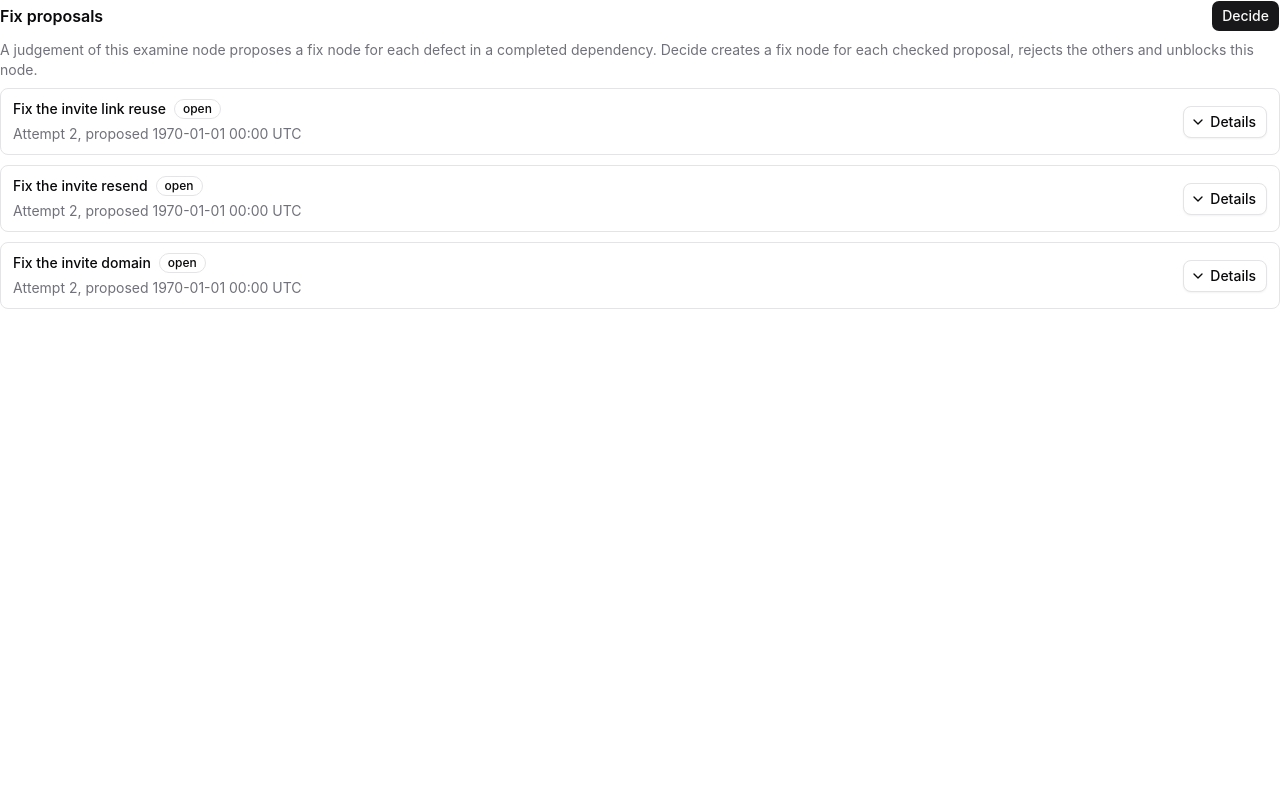
ProposalSection › keeps the confirm disabled until one proposal is checked
The width and height of the screenshot is (1280, 800).
Click the button "Decide". click: (1246, 16)
box: [1211, 0, 1279, 32]
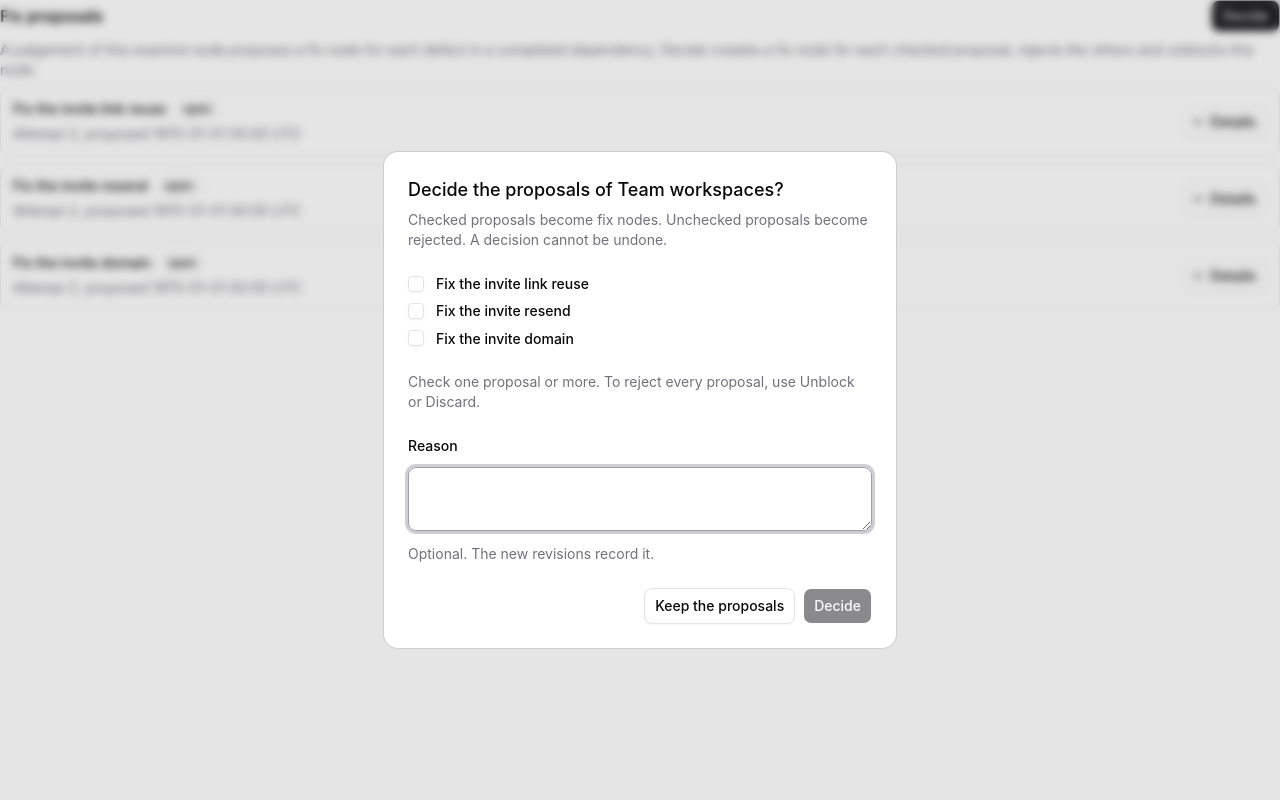
Result: the text "Check one proposal or more. To reject every proposal, use Unblock or Discard." is shown at [408, 372, 872, 412]
Result: the button "Decide" is disabled at [803, 588, 872, 624]
Click the 2nd checkbox named "Fix the invite resend". click: (416, 311)
box: [408, 303, 424, 319]
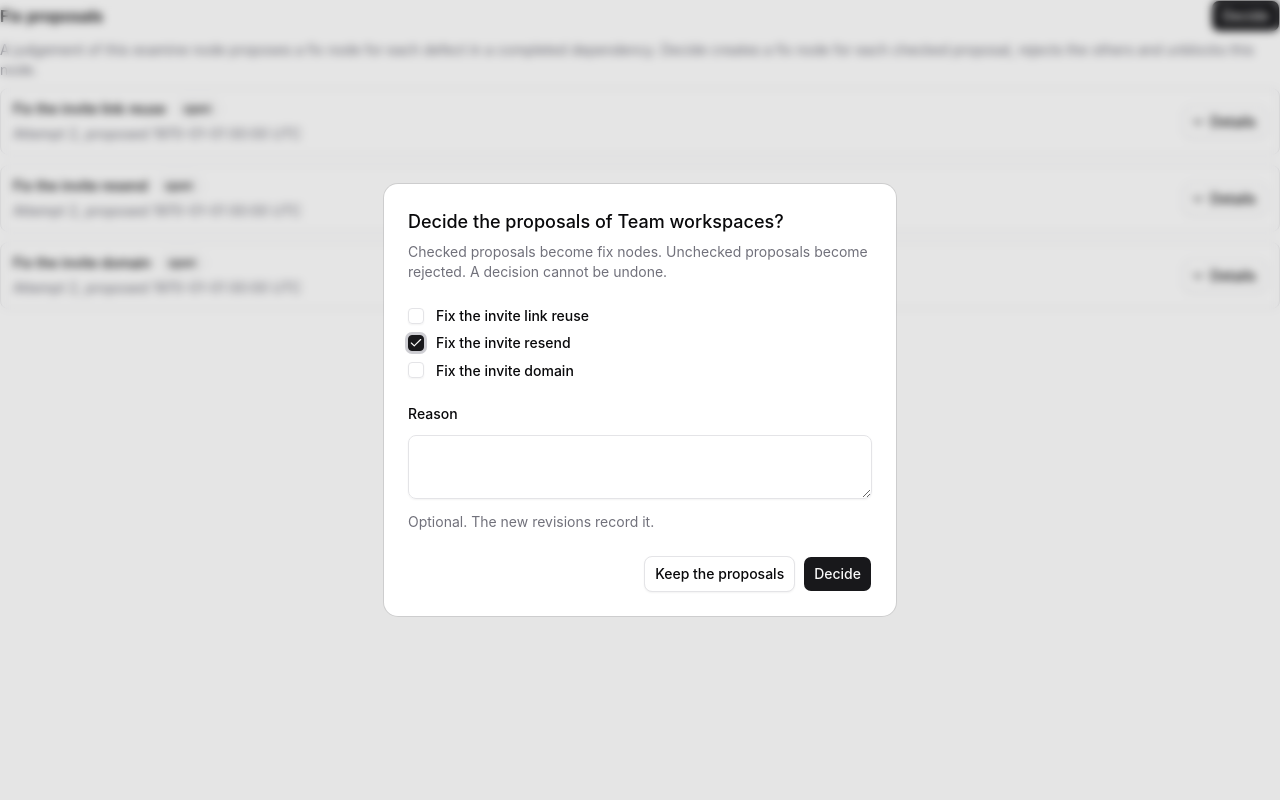
Result: the button "Decide" is enabled at [803, 556, 872, 592]
